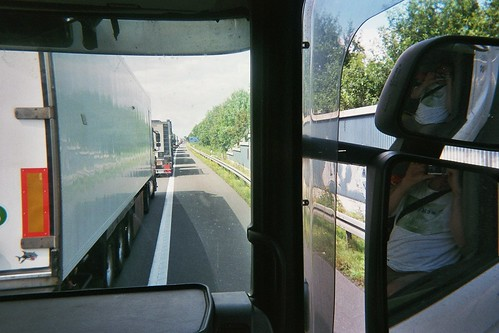road: (50, 138, 288, 289)
truck: (1, 56, 161, 299)
vegetation: (189, 92, 263, 154)
